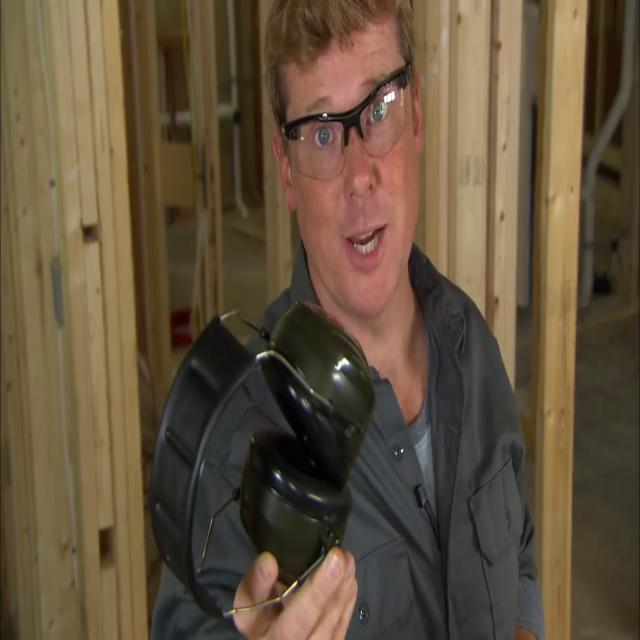earmuff: (258, 288, 376, 485), (237, 415, 355, 588)
glasses: (280, 57, 416, 186)
